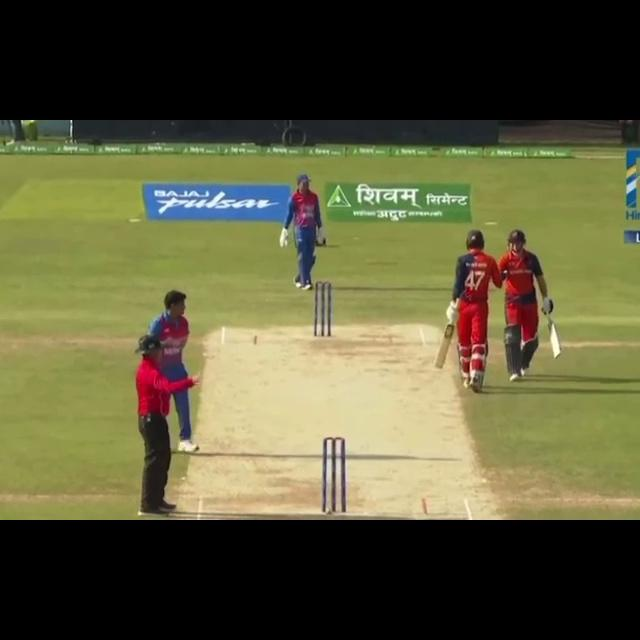umpire: (119, 333, 206, 520)
